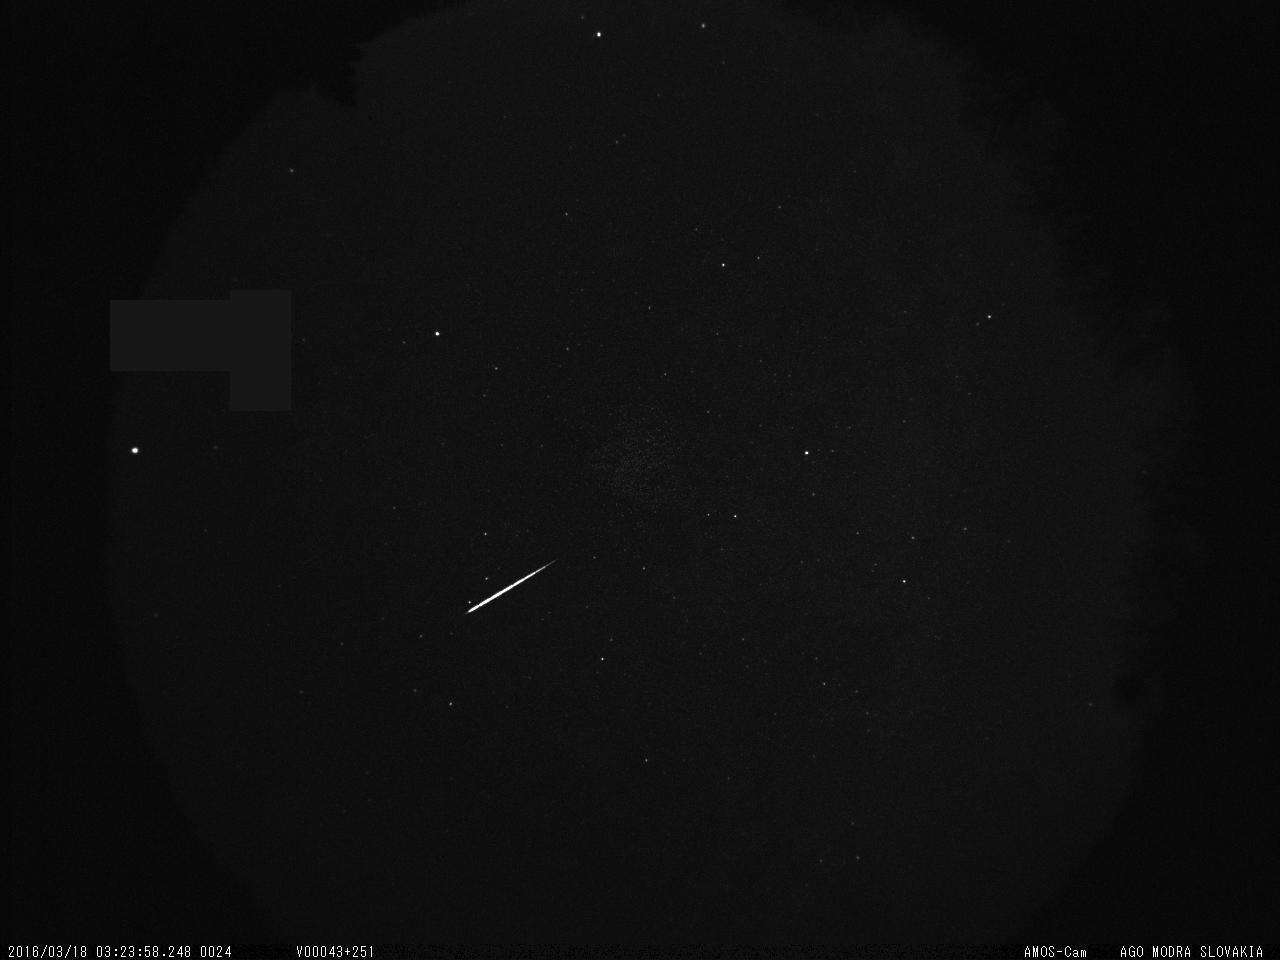meteor: (466, 562, 560, 631)
